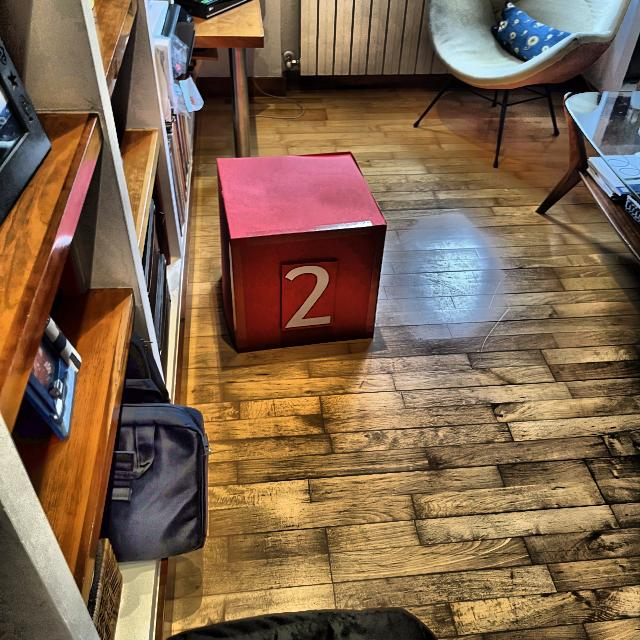red box: (215, 155, 384, 352)
two: (285, 266, 335, 330)
